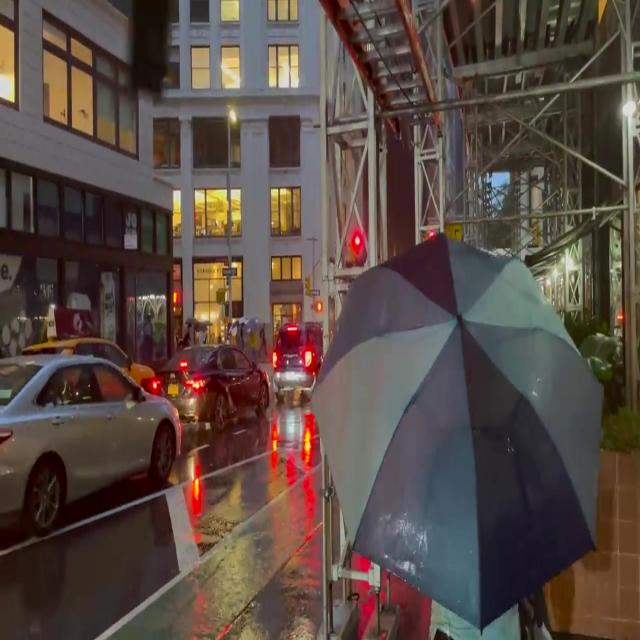Car: (3, 355, 174, 528), (170, 345, 267, 440), (269, 323, 316, 385)
